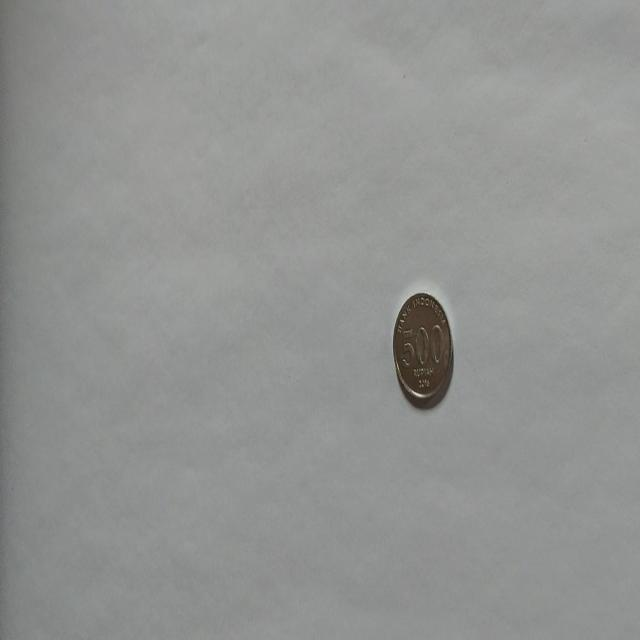lima ratus rupiah: (392, 290, 454, 409)
